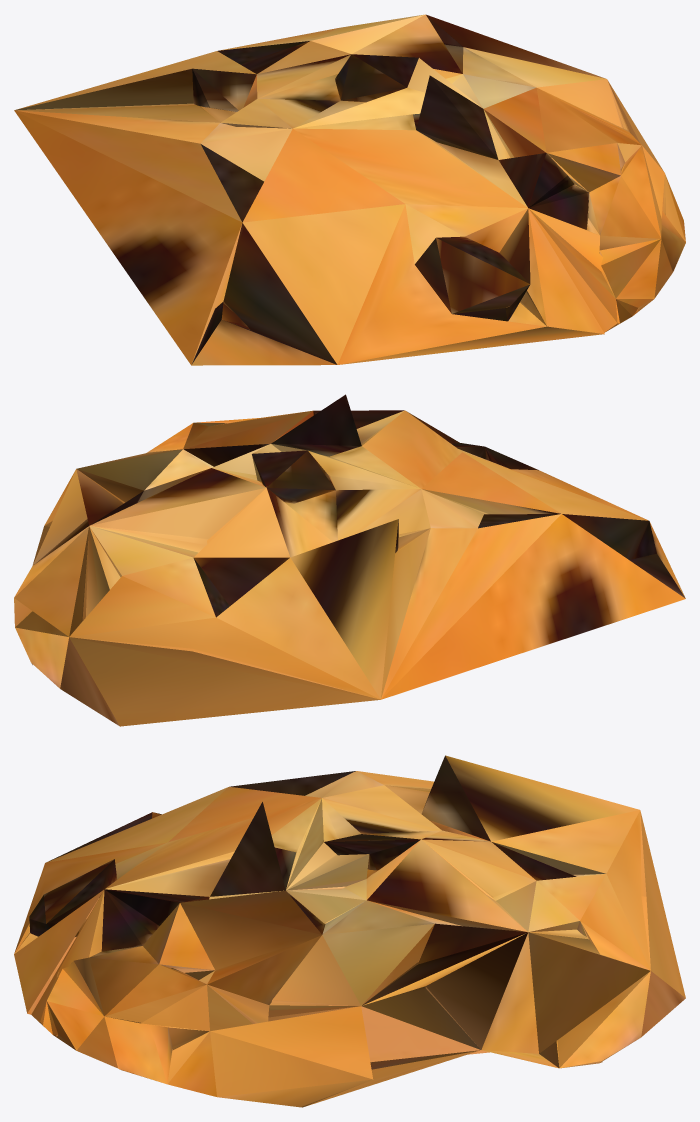
Rendered from cookie.glb.
3 views of the same model, one above another, from view 1: azimuth 30°, elevation 25°; view 2: azimuth 150°, elevation 25°; view 3: azimuth 270°, elevation 25° (orthographic). The views are drawn at different scales.
Visible parts, largest first — view 1: Mesh_0.001; view 2: Mesh_0.001; view 3: Mesh_0.001.
Boxes of the visible parts, x1,y1,x2,y2 form: Mesh_0.001: (14, 14, 685, 365); Mesh_0.001: (14, 394, 685, 726); Mesh_0.001: (14, 755, 685, 1107).
Bounding box in the file's own units: 6.33 × 2.1 × 6.77.
1 material, 1 textured.
